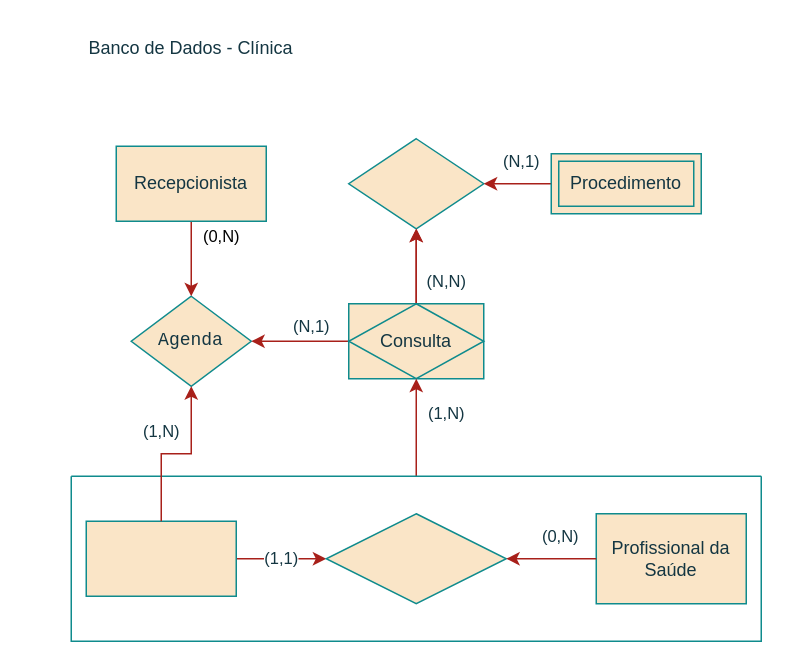
The diagram is 788 pixels wide and 668 high, and some of its shapes have lost their labels. The centre of each missing label's shape, as x and y in pixels:
"Atende" goes at (x=415, y=558).
"Cliente" goes at (x=160, y=558).
"Realiza" goes at (x=415, y=183).
